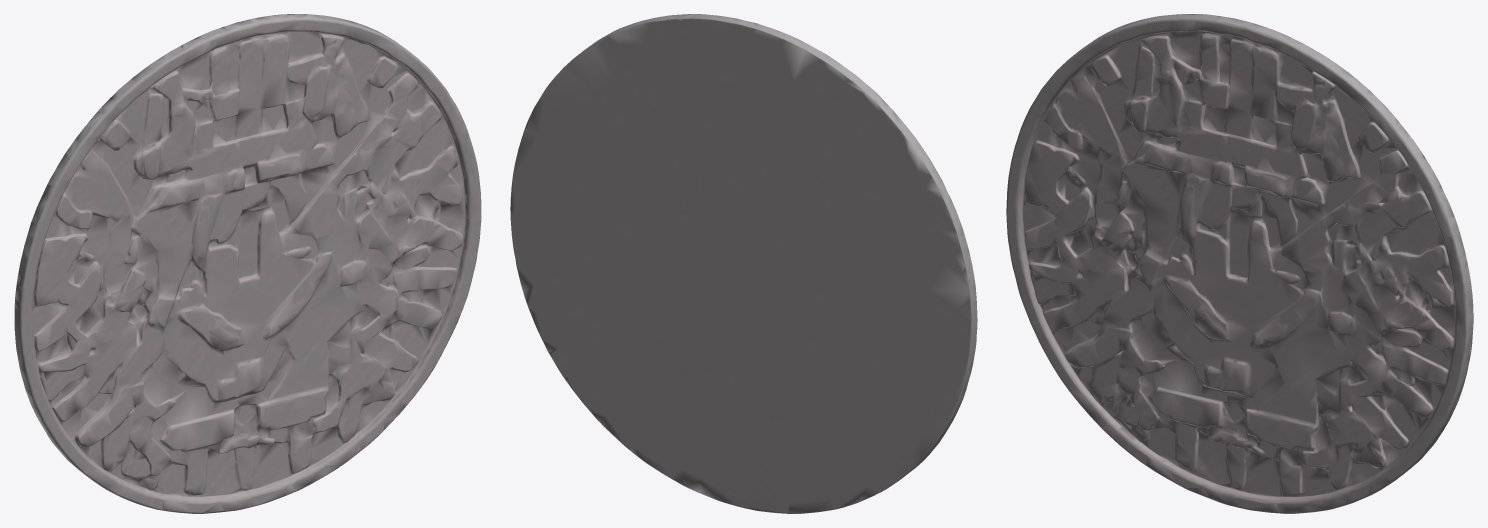
3 renders of one model, left to right at view 1: azimuth 30°, elevation 25°; view 2: azimuth 150°, elevation 25°; view 3: azimuth 330°, elevation 25°, orthographic.
Size of the model in its own units: 1.9 by 1.9 by 0.0497.
Materials: 1 (1 with a texture image).
